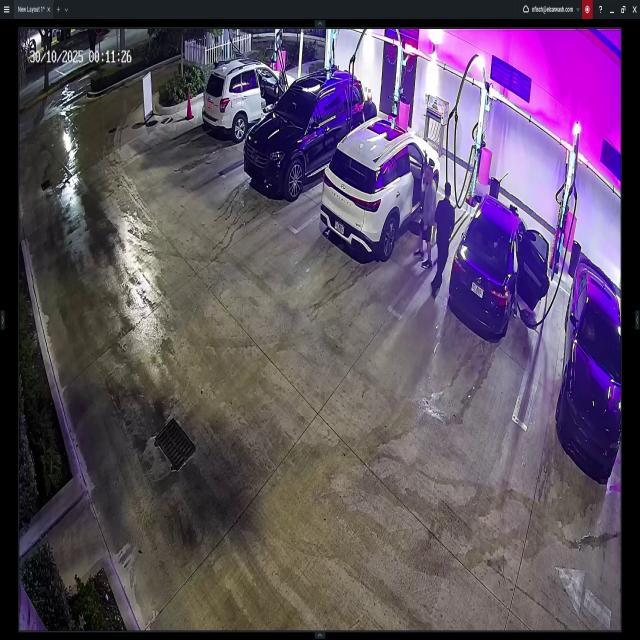Car: (322, 119, 439, 260), (243, 68, 364, 194), (556, 257, 622, 477), (450, 195, 546, 336), (204, 58, 284, 139)
